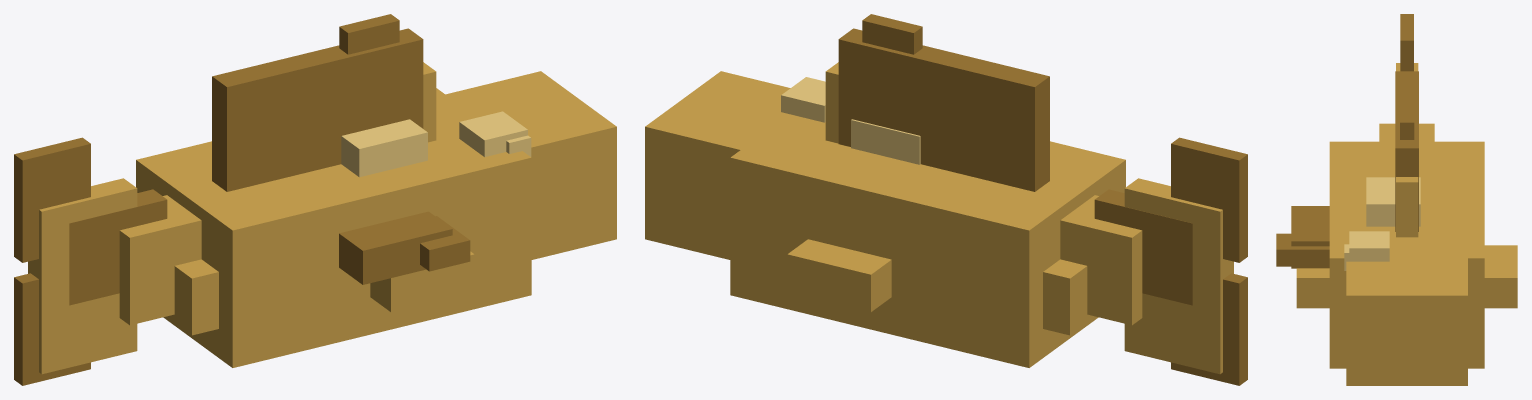
File: fish_gilt_mangrove.glb
3 views of the same model, side by side, from view 1: azimuth 30°, elevation 25°; view 2: azimuth 150°, elevation 25°; view 3: azimuth 270°, elevation 25° (orthographic). The views are drawn at different scales.
Parts seen in each view (by area): view 1: FishArt_body, FishArt_dorsal, FishArt_tail, FishArt_pectoral, FishArt_specialty, FishArt_eye; view 2: FishArt_body, FishArt_dorsal, FishArt_tail, FishArt_specialty, FishArt_eye; view 3: FishArt_body, FishArt_pectoral, FishArt_dorsal, FishArt_specialty, FishArt_eye, FishArt_tail.
Part boxes in pixels (x1,y1,x2,y2): FishArt_body: (28, 62, 616, 374); FishArt_dorsal: (212, 14, 423, 191); FishArt_tail: (14, 137, 167, 385); FishArt_pectoral: (339, 211, 470, 284); FishArt_specialty: (341, 119, 427, 177); FishArt_eye: (459, 111, 531, 156); FishArt_body: (645, 62, 1233, 374); FishArt_dorsal: (838, 14, 1049, 191); FishArt_tail: (1094, 137, 1247, 385); FishArt_specialty: (851, 119, 920, 164); FishArt_eye: (781, 77, 825, 122); FishArt_body: (1296, 63, 1517, 385); FishArt_pectoral: (1276, 206, 1329, 268); FishArt_dorsal: (1395, 71, 1418, 231); FishArt_specialty: (1366, 177, 1420, 226); FishArt_eye: (1344, 231, 1389, 270); FishArt_tail: (1400, 14, 1413, 71).
Size of the model in its own units: 0.3091 by 0.1442 by 0.1439.
